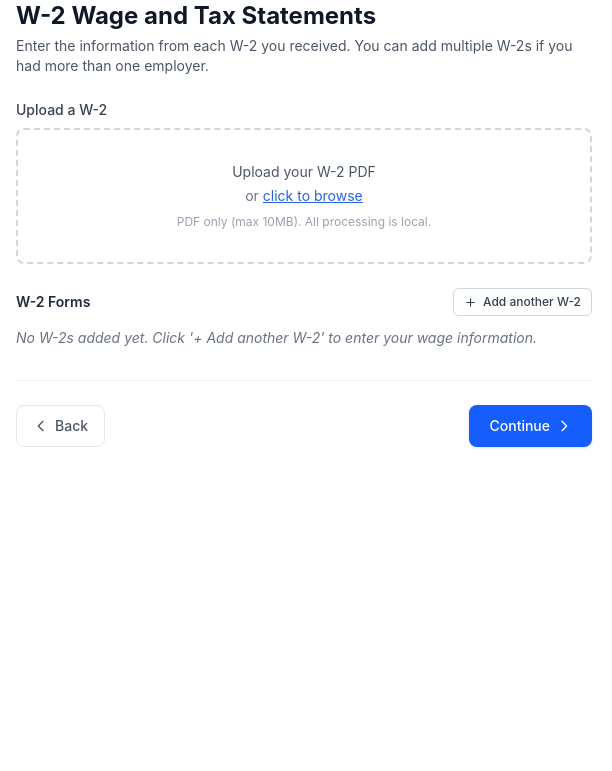
it: W2IncomePage › shows advanced fields when toggled
This screenshot has width=612, height=771.
Click the button "Add another W-2" at (522, 302), box top-left (453, 288), bottom-right (592, 316)
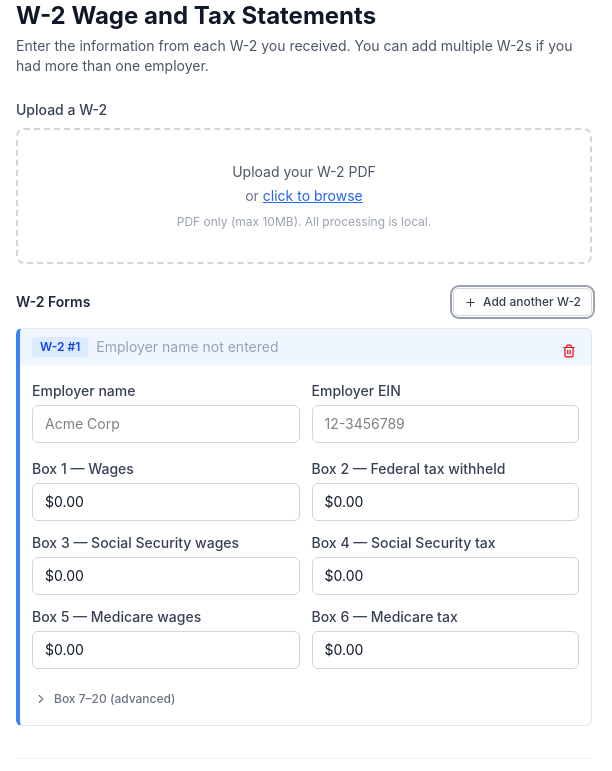
Check: the text "Box 13" is not shown
Click the button "Box 7–20 (advanced)" at (105, 699), box top-left (24, 685), bottom-right (185, 713)
(page scrolled)
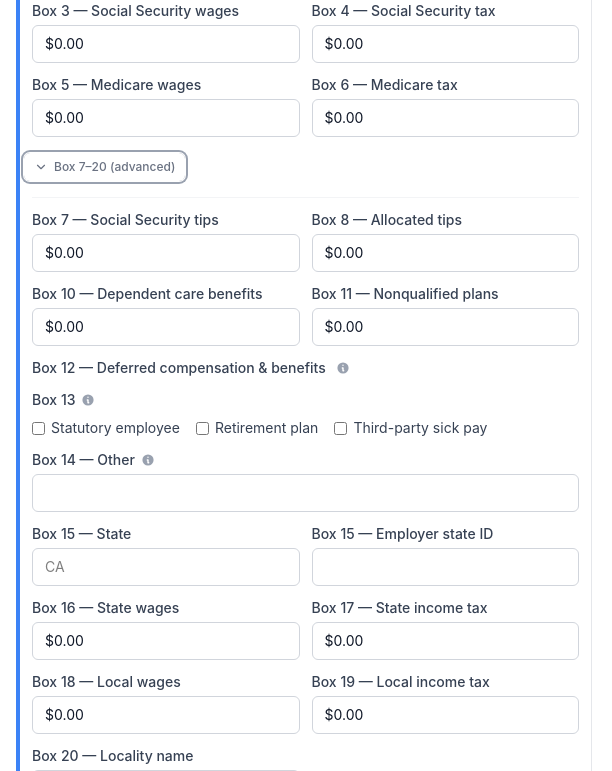
Check: the text "Box 13" is shown, box top-left (32, 389), bottom-right (100, 411)
